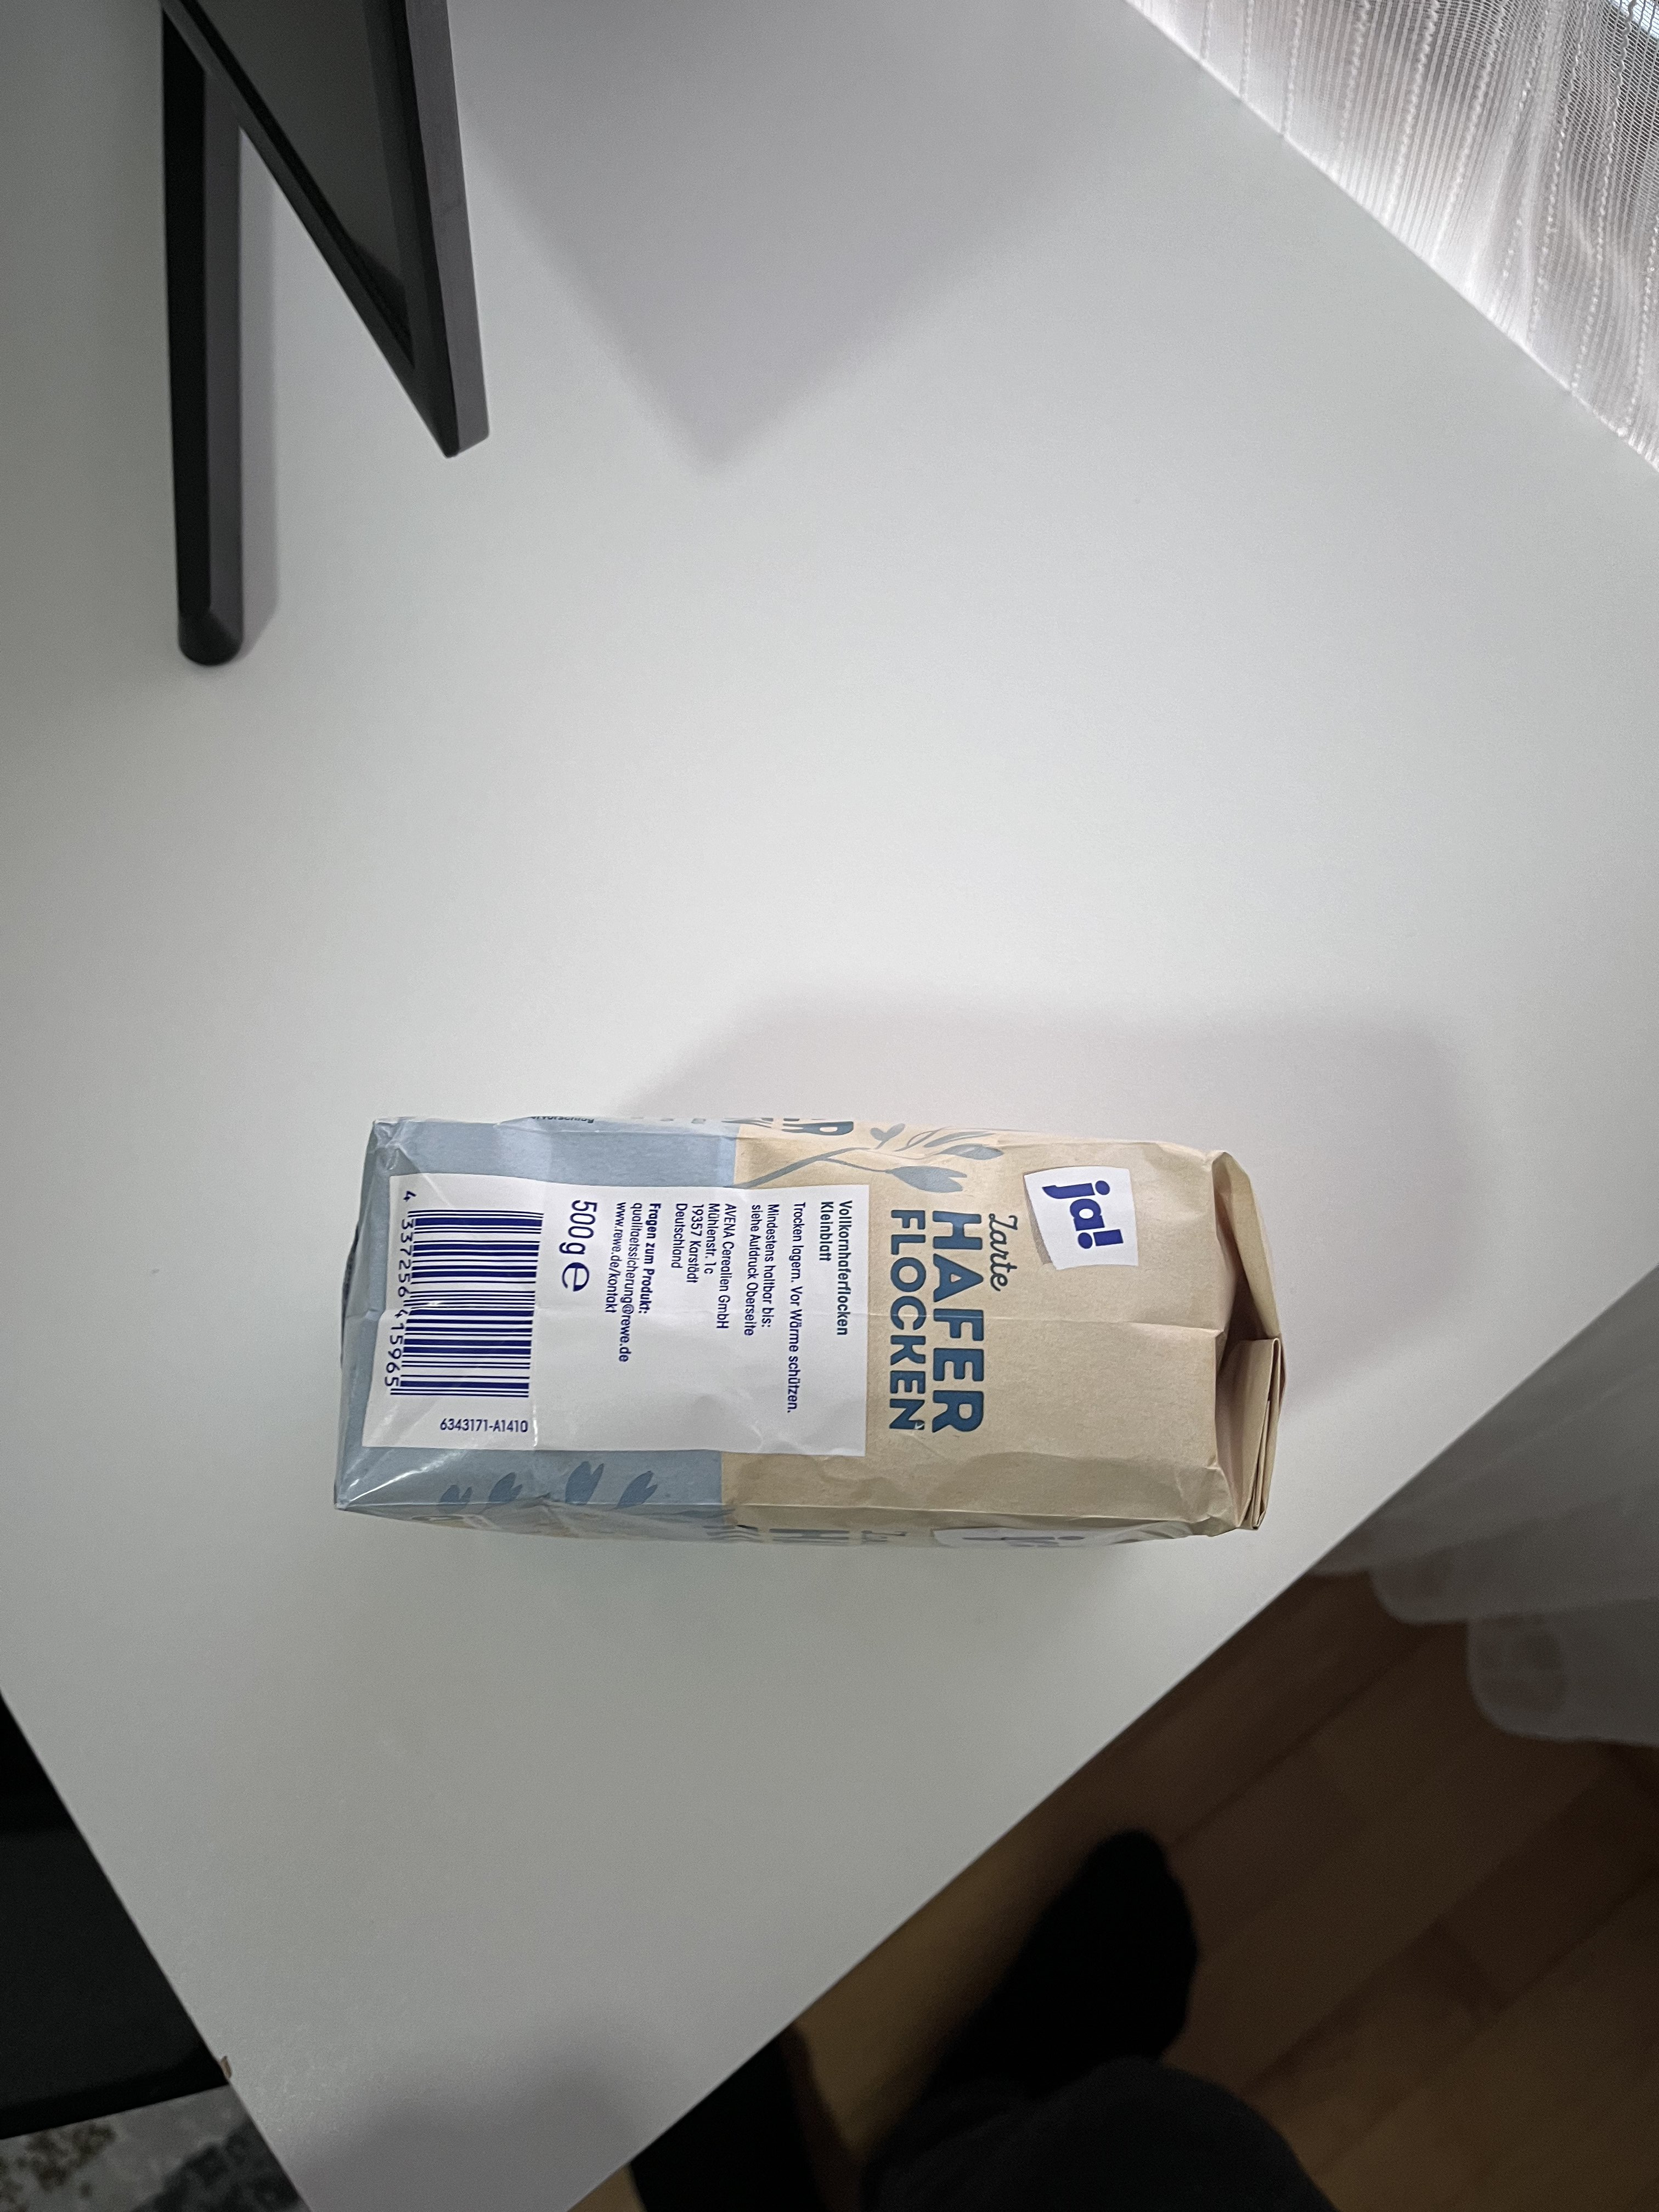haferflocken_ja: (333, 1109, 1284, 1555)
